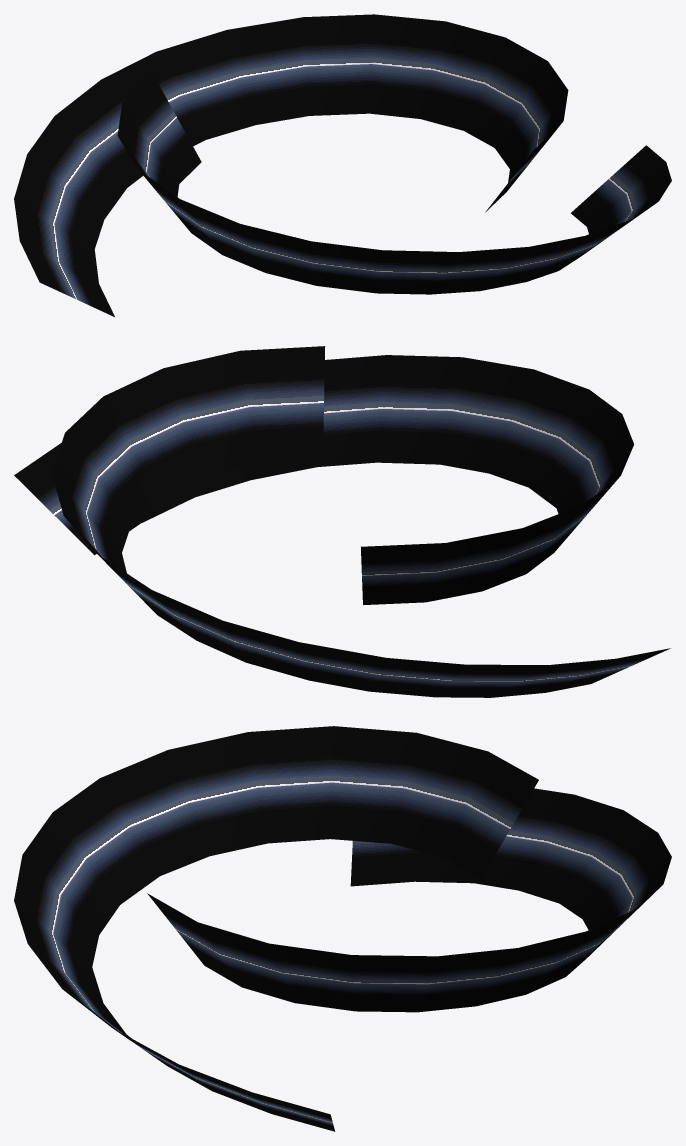
Rendered from 0349_jiujivlongshou_helix01.glb.
3 views of the same model, one above another, from view 1: azimuth 30°, elevation 25°; view 2: azimuth 150°, elevation 25°; view 3: azimuth 270°, elevation 25° (orthographic). The views are drawn at different scales.
Bounding box in the file's own units: 2.2 × 0.5433 × 1.88.
1 material, 1 textured.
